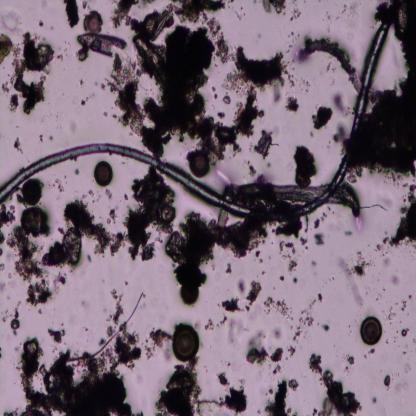Background material: (118, 27, 262, 156), (16, 288, 147, 416), (347, 41, 416, 167), (167, 211, 271, 282), (118, 164, 177, 258), (41, 204, 122, 268), (8, 208, 59, 304), (11, 31, 57, 114), (223, 43, 293, 94), (309, 352, 362, 416), (104, 52, 146, 132), (155, 361, 200, 415), (288, 291, 320, 357), (387, 178, 416, 247), (247, 325, 284, 374), (338, 251, 368, 310), (196, 385, 245, 416), (223, 275, 260, 316), (168, 2, 230, 25), (264, 377, 300, 415), (291, 145, 320, 187), (109, 1, 144, 29), (141, 329, 174, 358), (0, 205, 13, 274), (272, 219, 307, 240), (77, 186, 114, 204), (264, 298, 294, 320), (252, 132, 275, 160), (278, 240, 298, 272), (370, 236, 390, 266), (348, 250, 371, 276), (332, 124, 351, 152), (62, 0, 81, 27), (0, 32, 14, 66), (310, 106, 332, 127), (46, 174, 67, 192), (332, 90, 347, 115), (10, 304, 21, 336), (244, 156, 260, 178), (262, 1, 287, 15), (231, 0, 246, 23), (46, 328, 65, 346), (4, 12, 22, 31), (79, 88, 93, 112), (285, 92, 300, 111), (206, 318, 229, 329), (217, 370, 231, 386), (389, 272, 401, 289), (384, 306, 395, 324), (12, 137, 24, 153), (289, 8, 299, 27), (344, 228, 359, 240), (314, 231, 325, 247), (400, 296, 411, 312), (75, 76, 89, 86), (285, 31, 299, 41), (291, 270, 300, 283), (382, 374, 392, 385), (400, 325, 410, 336), (321, 322, 330, 334), (71, 120, 79, 133), (313, 218, 321, 230), (46, 132, 54, 144), (34, 21, 45, 29), (56, 53, 66, 61), (74, 167, 81, 177), (365, 349, 375, 356), (279, 276, 285, 284), (40, 135, 46, 143)
Cellulose filter fibre: (220, 183, 362, 218), (295, 40, 363, 92)
Diatom: (78, 34, 127, 58), (172, 322, 201, 362), (361, 316, 382, 347), (394, 1, 411, 38), (178, 281, 202, 307), (22, 180, 43, 207), (94, 160, 114, 188), (188, 154, 210, 178), (151, 16, 169, 42), (84, 12, 104, 34)
Hair textile: (0, 17, 393, 220)
